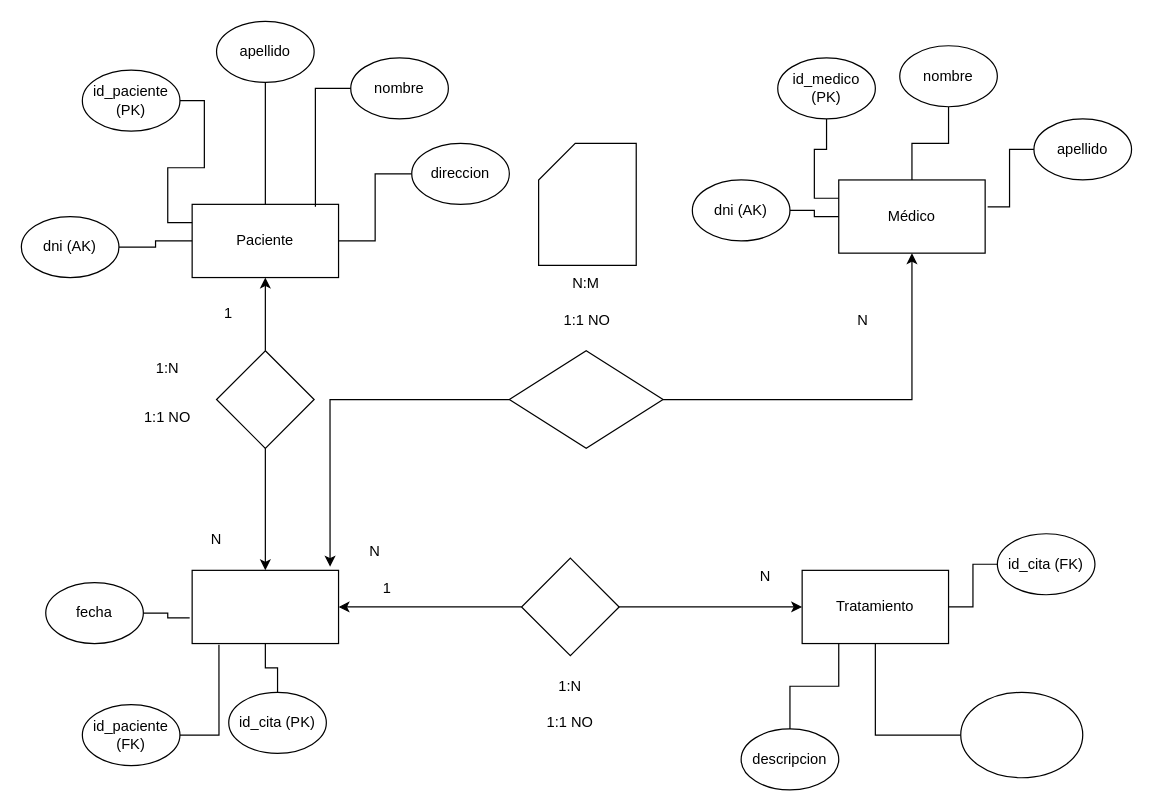
The diagram is 1153 pixels wide and 811 high, and some of its shapes have lost their labels. Each missing label, with the centre of its shape:
"atiende" goes at (585,399).
"Cita" goes at (265,606).
"id_tratamiento(PK)" goes at (1021,734).
"incluye" goes at (569,606).
"Tabla Intermedia" goes at (586,203).
"tiene" goes at (264,399).
